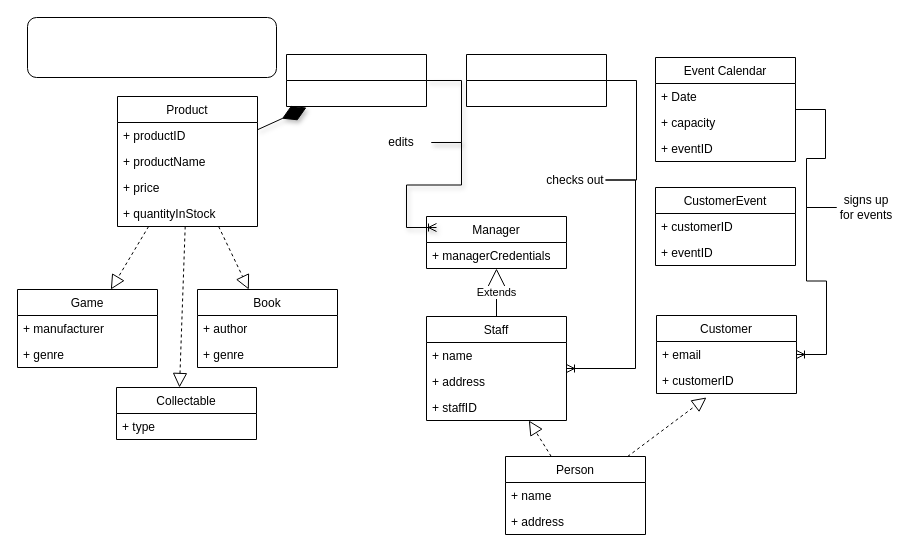
Image size: 914x555. Some labels were removed from this diagram. Each missing label, with the centre of its shape:
Game Shack Hut Domain diagram: (x=151, y=47)
ProductInventory: (x=356, y=80)
SalesRecords: (x=536, y=80)
